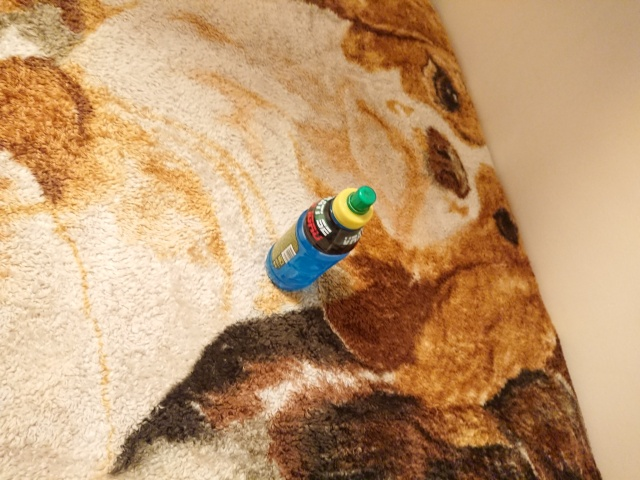Vindi Iso Sport Forest Strawberries 500mL: (263, 183, 377, 293)
